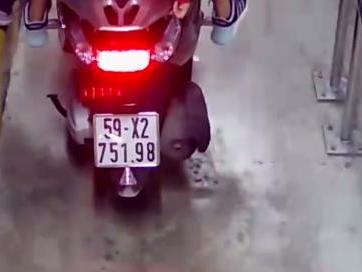num_plate: (92, 112, 160, 167)
